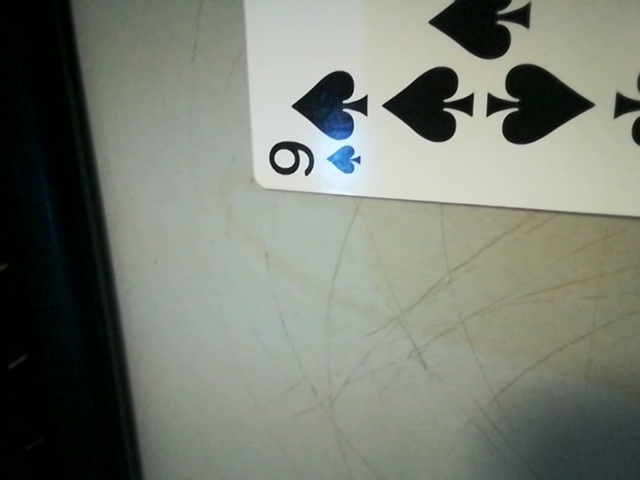ht 9: (255, 81, 368, 192)
